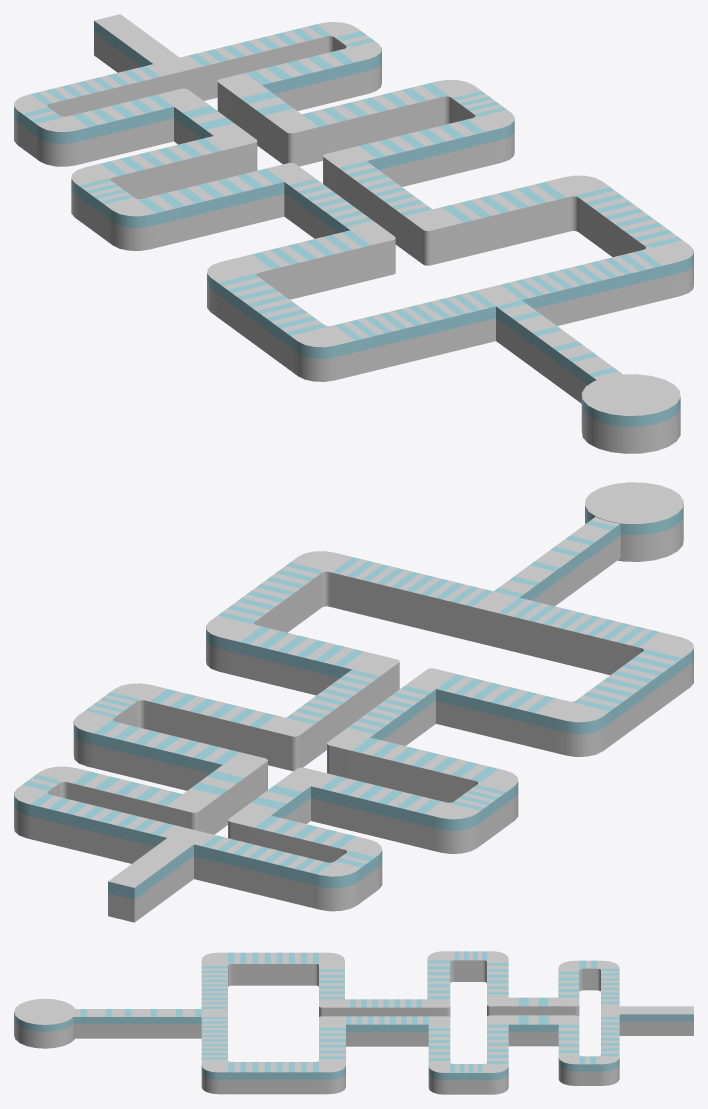
The model's file is Map_003.fbx.
3 renders of one model, top to bottom at view 1: azimuth 30°, elevation 25°; view 2: azimuth 150°, elevation 25°; view 3: azimuth 270°, elevation 25°, orthographic. The views are drawn at different scales.
Parts seen in each view (by area): view 1: pCube9; view 2: pCube9; view 3: pCube9.
Boxes of the visible parts, x1,y1,x2,y2 form: pCube9: [14, 14, 693, 453]; pCube9: [14, 482, 693, 922]; pCube9: [14, 951, 693, 1094].
Size of the model in its own units: 494 by 44.74 by 1164.
